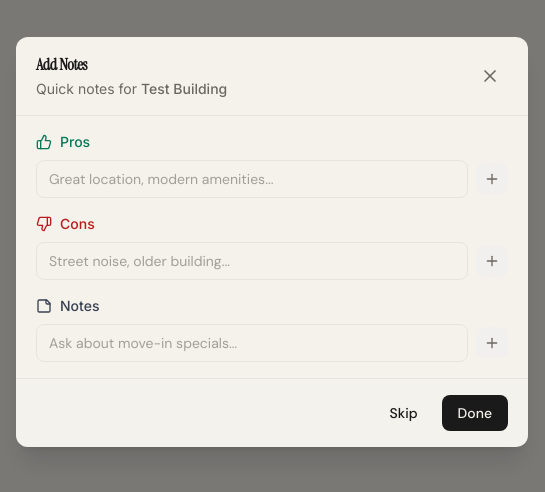
Scenario: QuickAddNotesModal › adds note to pending list when clicking add button
The width and height of the screenshot is (545, 492).
Type "Nice pool" into the field with placeholder "Great location, modern amenities...". click: (252, 179)
box: top-left (36, 160), bottom-right (468, 198)
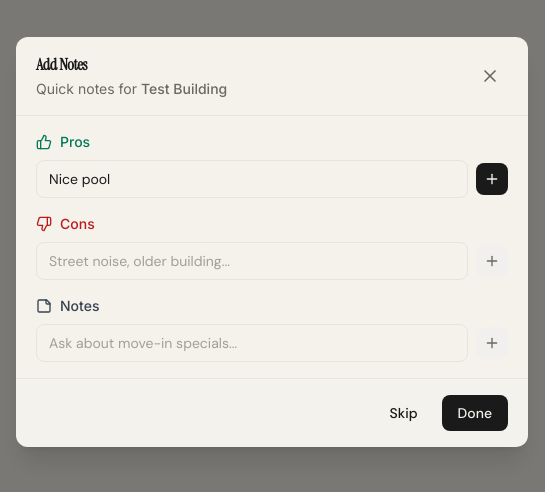
Click the button named "Add pro". click: click(492, 179)
box: top-left (476, 163), bottom-right (508, 195)
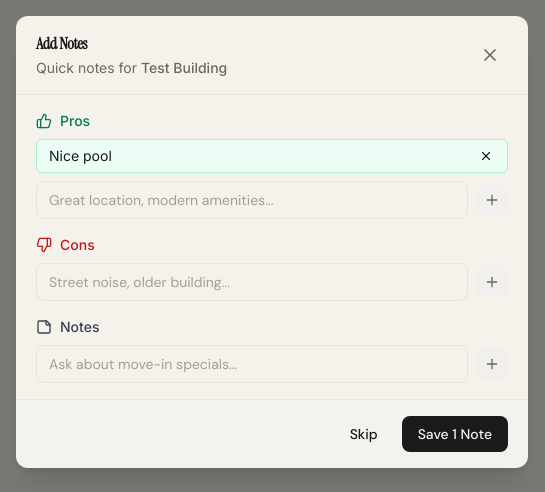
Expected: the text "Nice pool" is shown, top-left (49, 147), bottom-right (112, 164)
